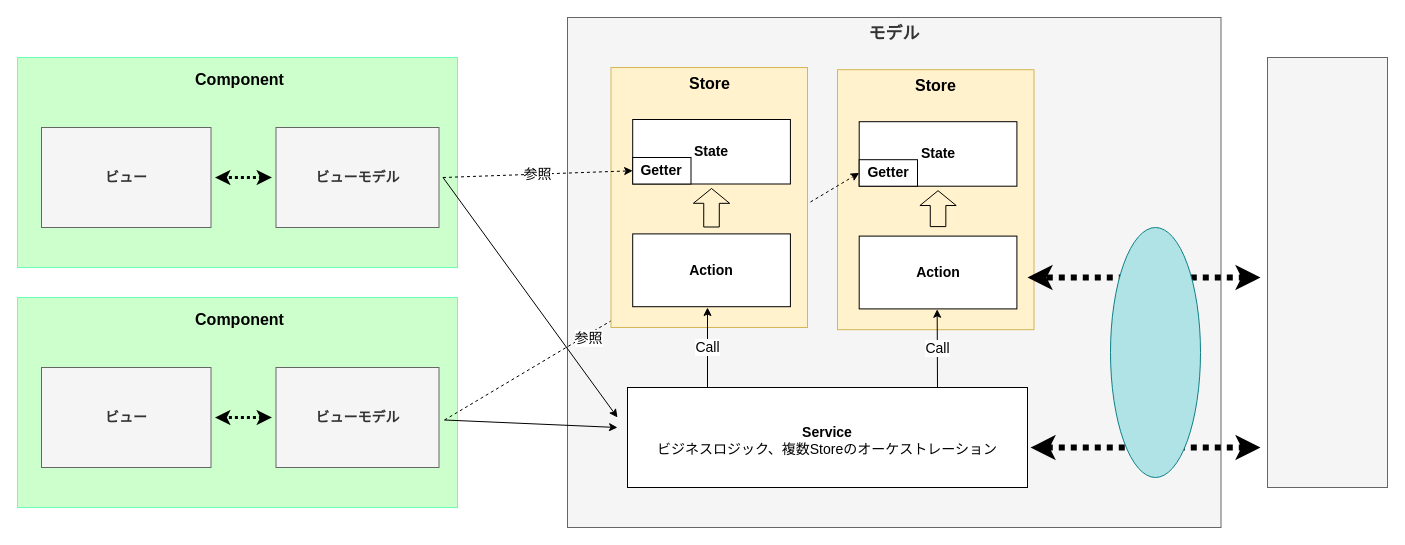
This 1405x545 diagram has some shape labels left out. The shapes that lost their labels are listed below. From the top down, each one's box as (x1, y1, x2, y2) in pixels, then its label:
(1266, 56, 1388, 488): API
(1110, 226, 1200, 478): APIモデル
